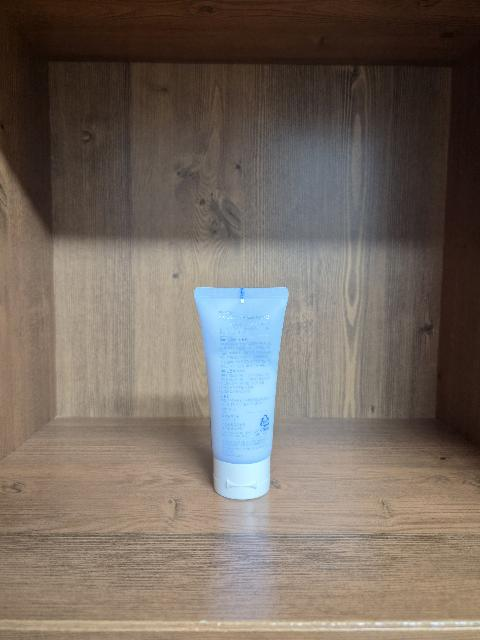handcream: (194, 287, 289, 500)
